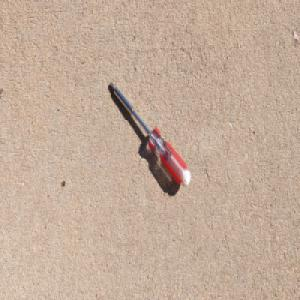Screwdriver: (108, 77, 192, 187)
